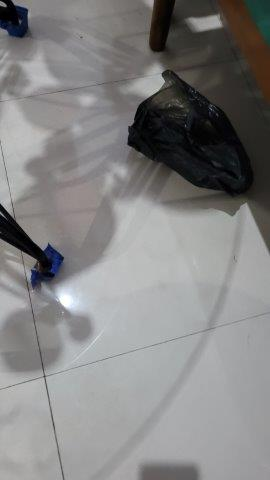plastik: (128, 71, 255, 199)
